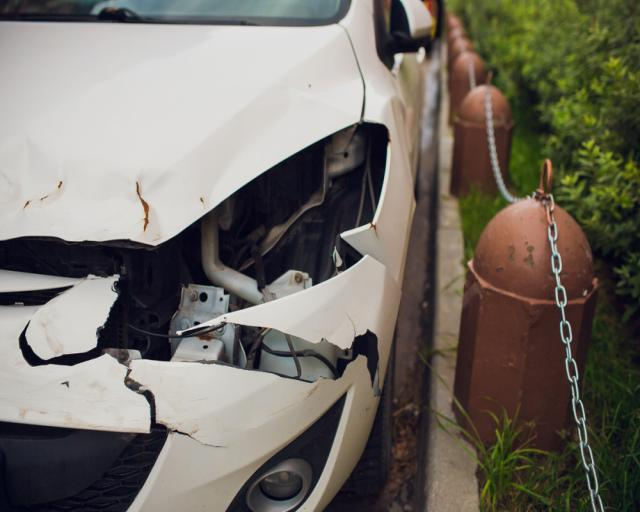crack: (19, 276, 382, 448)
dent: (0, 137, 197, 244)
